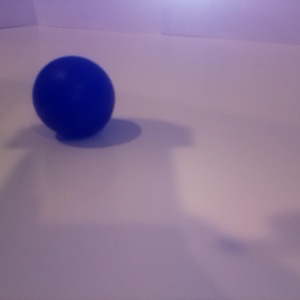dead_ball: (32, 54, 115, 137)
